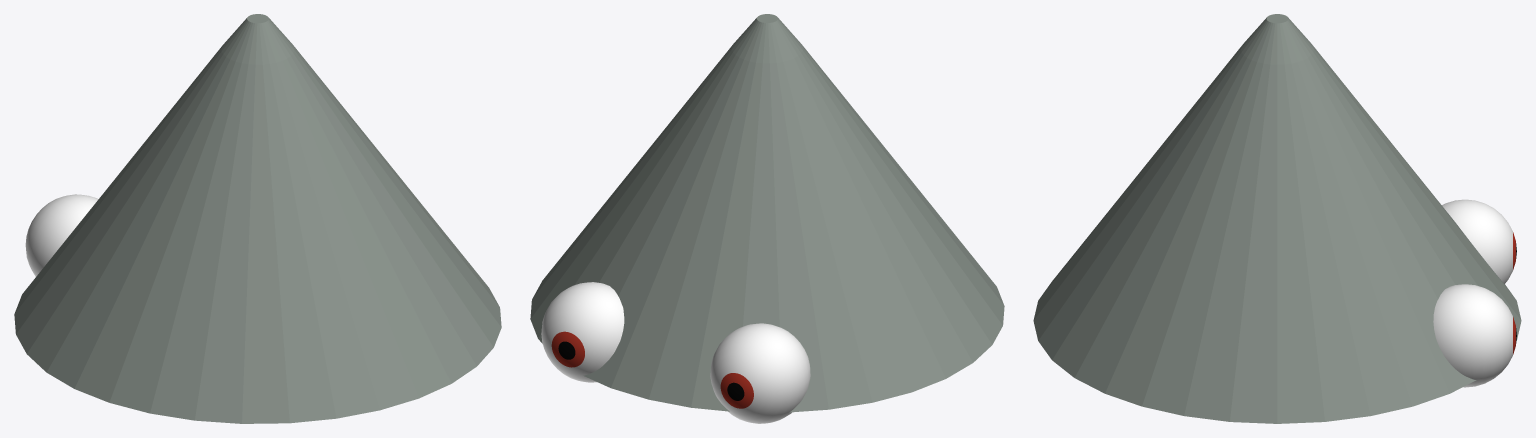
The model's file is ash.glb.
3 renders of one model, left to right at view 1: azimuth 30°, elevation 25°; view 2: azimuth 150°, elevation 25°; view 3: azimuth 270°, elevation 25°, orthographic. The views are drawn at different scales.
Parts seen in each view (by area): view 1: Cone, eyes; view 2: Cone, eyes; view 3: Cone, eyes.
Boxes of the visible parts, x1,y1,x2,y2 form: Cone: (14,14,501,423); eyes: (25,194,98,276); Cone: (530,14,1004,412); eyes: (541,282,810,423); Cone: (1033,14,1521,423); eyes: (1433,199,1516,387).
Size of what is drawn, in the model's own units: 0.3011 by 0.219 by 0.3011.
2 materials, 1 textured.
